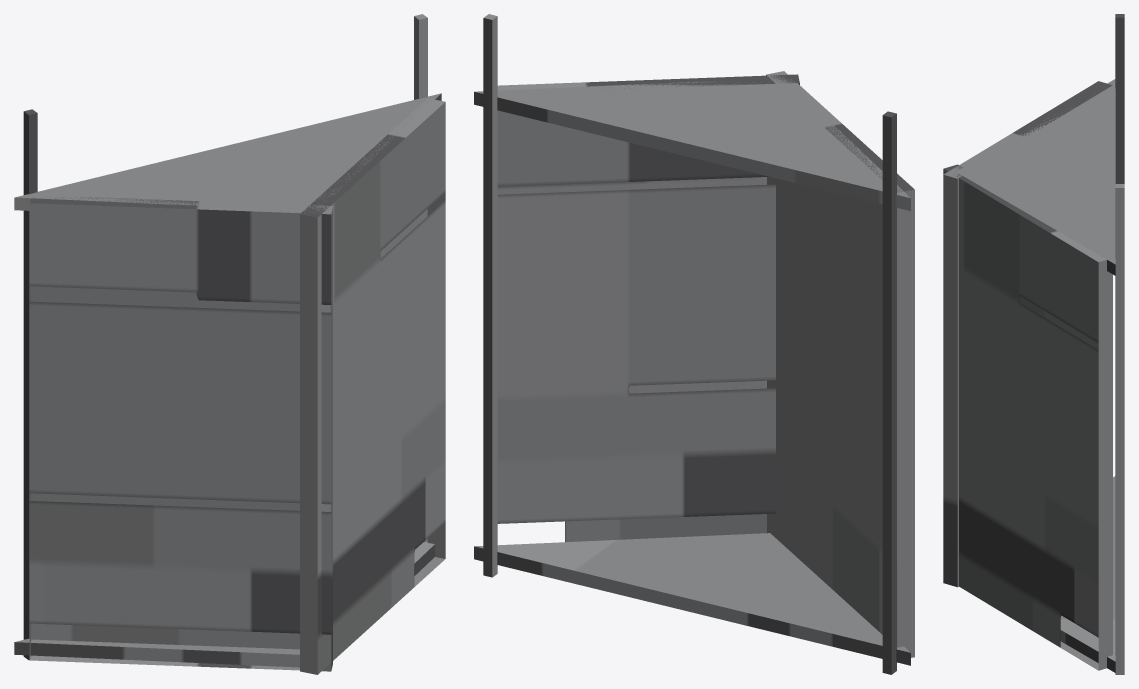
3 views of the same model, side by side, from view 1: azimuth 30°, elevation 25°; view 2: azimuth 150°, elevation 25°; view 3: azimuth 270°, elevation 25° (orthographic). The views are drawn at different scales.
Size of the model in its own units: 1.14 by 1.4 by 0.4701.
